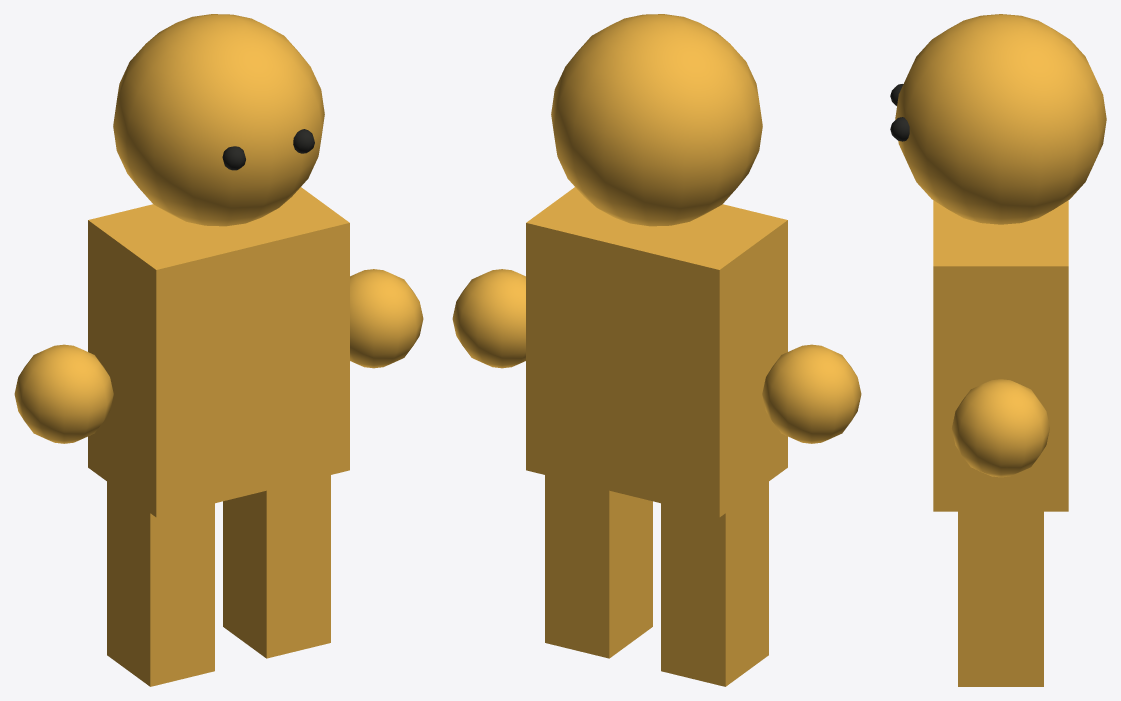
Rendered from demo-0.glb.
The picture shows the model from 3 angles, left to right: view 1: azimuth 30°, elevation 25°; view 2: azimuth 150°, elevation 25°; view 3: azimuth 270°, elevation 25°; orthographic projection.
Size of the model in its own units: 1.84 by 2.78 by 0.88.
